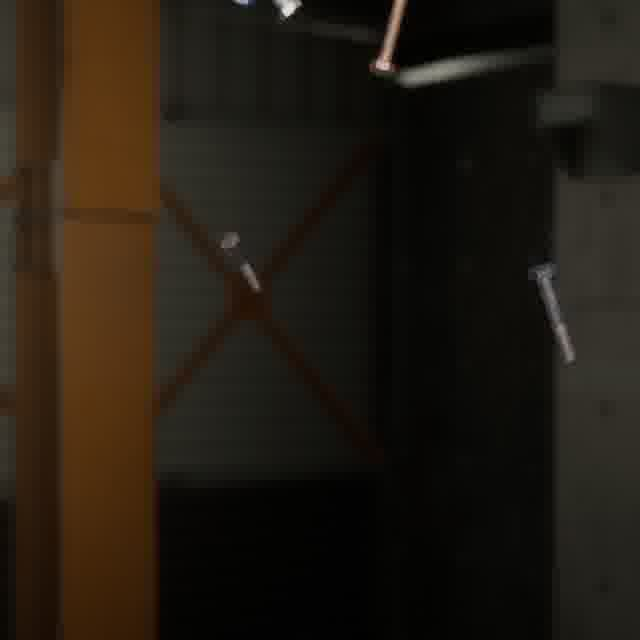bolt: (523, 257, 580, 367), (364, 0, 412, 81), (215, 227, 265, 297), (266, 0, 306, 27)
